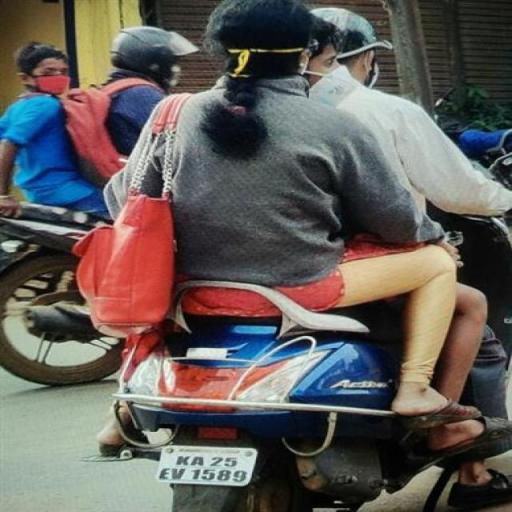tripple riding: (48, 0, 480, 322)
